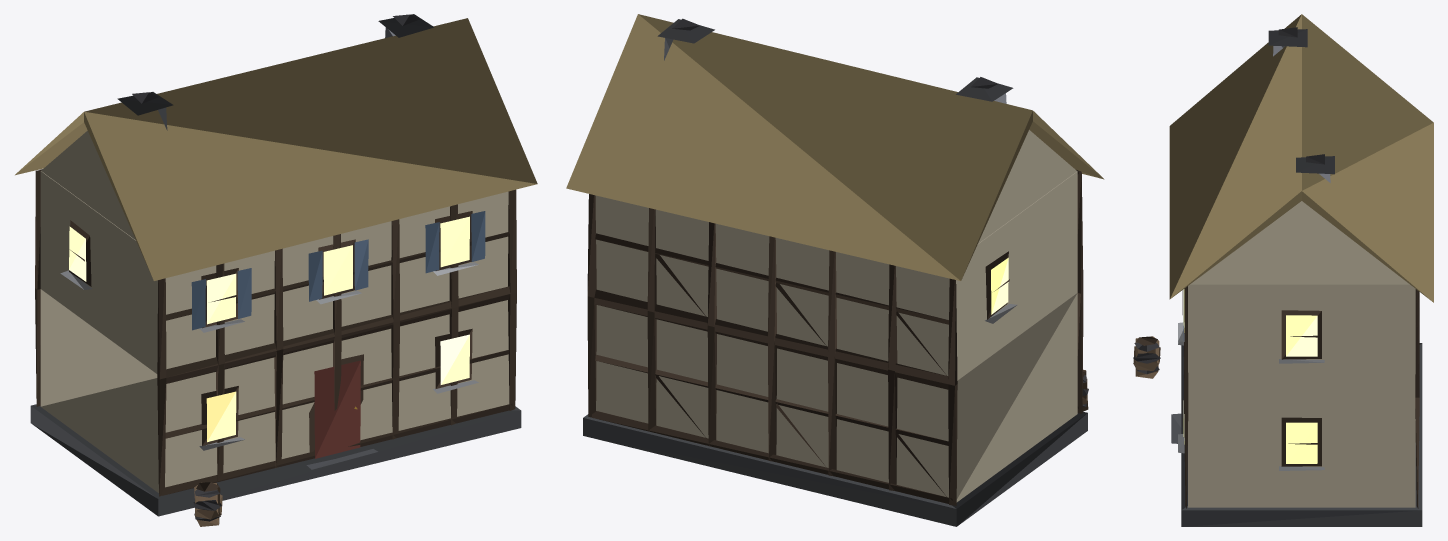
File: bree_house_timber_2_lod1.glb
The picture shows the model from 3 angles, left to right: view 1: azimuth 30°, elevation 25°; view 2: azimuth 150°, elevation 25°; view 3: azimuth 270°, elevation 25°; orthographic projection. The views are drawn at different scales.
Parts seen in each view (by area): view 1: bree_house_timber_2_lod1; view 2: bree_house_timber_2_lod1; view 3: bree_house_timber_2_lod1.
Part boxes in pixels (x1,y1,x2,y2): bree_house_timber_2_lod1: (15,14,537,526); bree_house_timber_2_lod1: (566,14,1104,526); bree_house_timber_2_lod1: (1133,14,1433,526).
Bounding box in the file's own units: 9.2 × 8.45 × 6.61.
